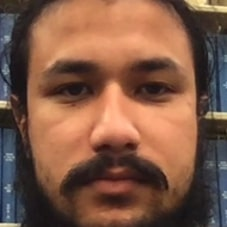awake: (42, 53, 187, 227)
